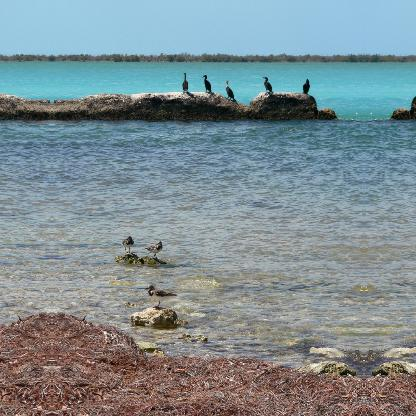Bird: (144, 285, 176, 307), (225, 80, 237, 102), (146, 240, 162, 256), (122, 236, 134, 252), (201, 75, 213, 91), (180, 72, 188, 92), (262, 75, 272, 91), (301, 77, 308, 93)
